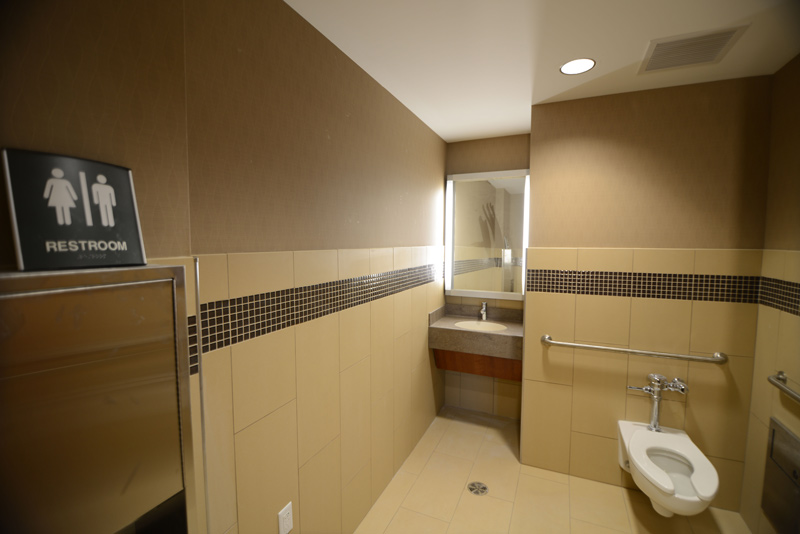counter: (427, 306, 523, 358)
countertop: (428, 303, 523, 335)
faucet: (479, 301, 488, 323)
restroom_assist_bar: (540, 332, 730, 366), (766, 369, 800, 405)
sink: (457, 315, 504, 332)
toilet: (617, 372, 719, 519)
toilet_handle: (623, 383, 659, 401)
